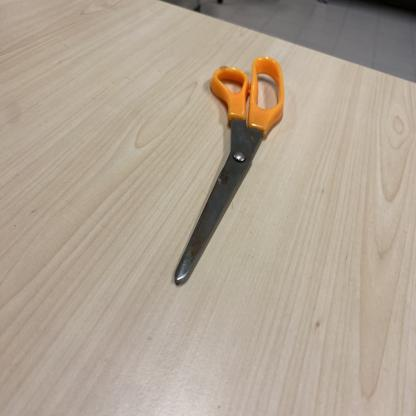scissors: (173, 54, 286, 287)
